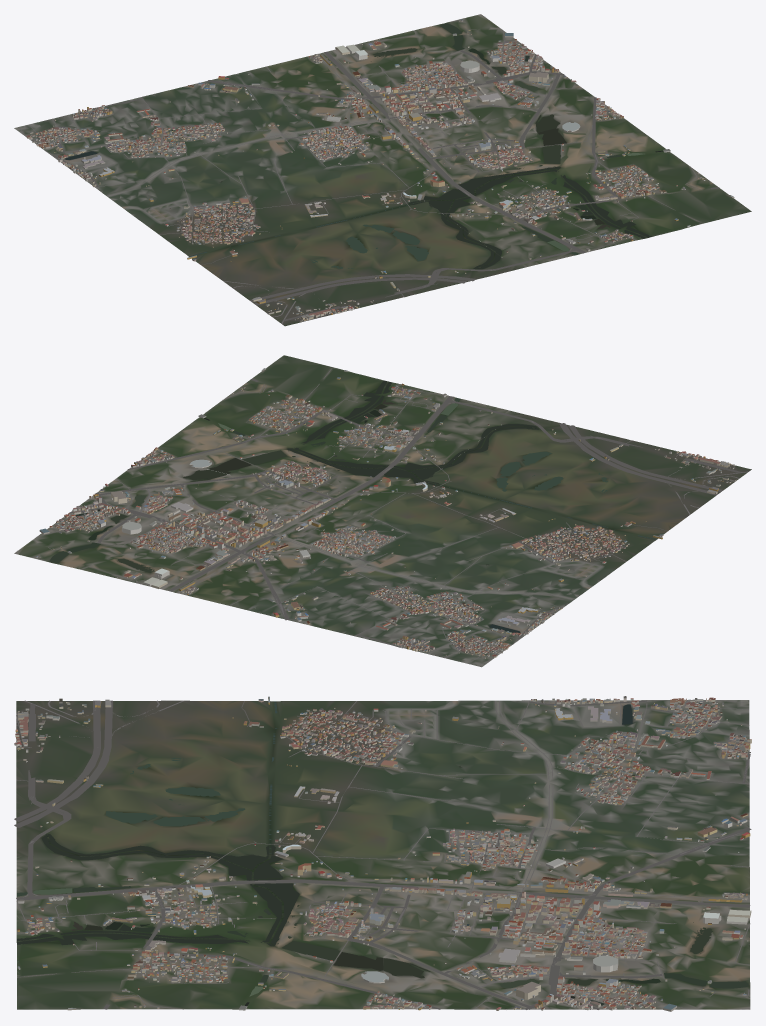
3 views of the same model, one above another, from view 1: azimuth 30°, elevation 25°; view 2: azimuth 150°, elevation 25°; view 3: azimuth 270°, elevation 25° (orthographic). The views are drawn at different scales.
Visible parts, largest first — view 1: ground, buildings, roads, water; view 2: ground, buildings, roads, water; view 3: ground, buildings, roads, water.
Part boxes in pixels (<box>): ground: <box>14,14,751,326</box>; buildings: <box>26,19,734,321</box>; roads: <box>19,14,719,323</box>; water: <box>64,23,680,269</box>; ground: <box>14,355,751,667</box>; buildings: <box>36,368,736,658</box>; roads: <box>15,367,748,665</box>; water: <box>49,373,656,632</box>; ground: <box>16,700,750,1009</box>; buildings: <box>14,696,751,1011</box>; roads: <box>14,700,751,1009</box>; water: <box>16,701,748,1005</box>.
Bounding box in the file's own units: 2840 × 38.31 × 2822.
